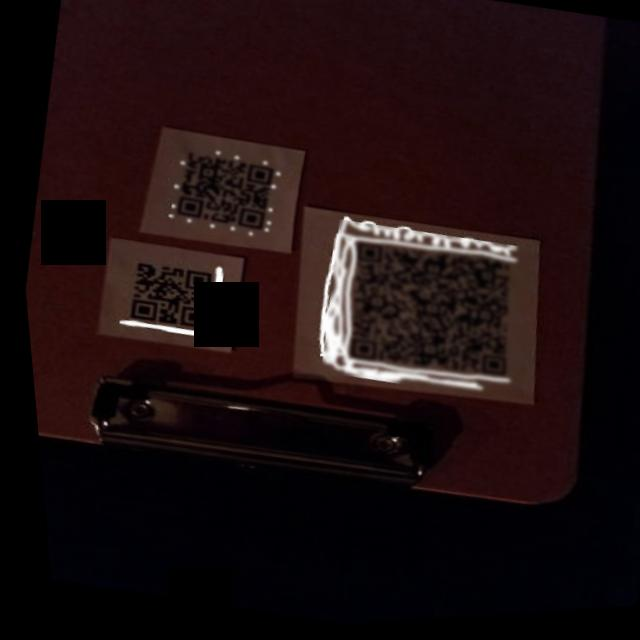QR_CODE: (303, 214, 536, 415), (158, 134, 291, 252), (101, 243, 227, 353)
